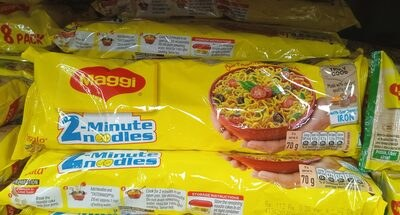Maggi noodles masala: (20, 11, 380, 204)
